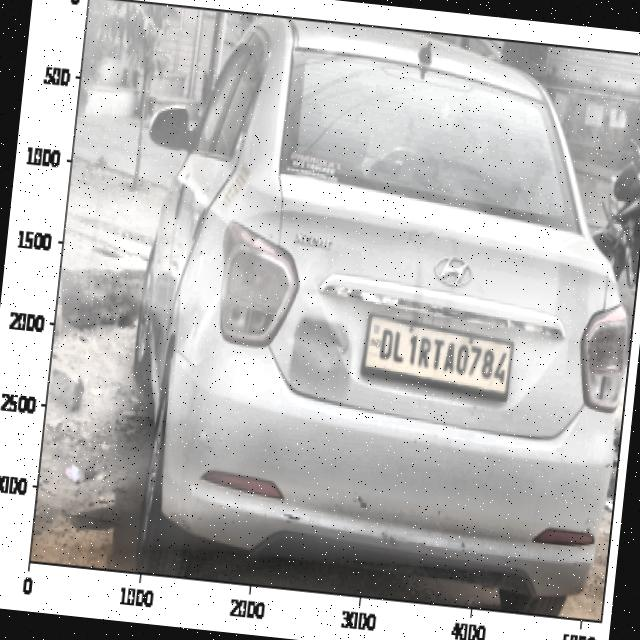license_plate: (370, 316, 512, 400)
